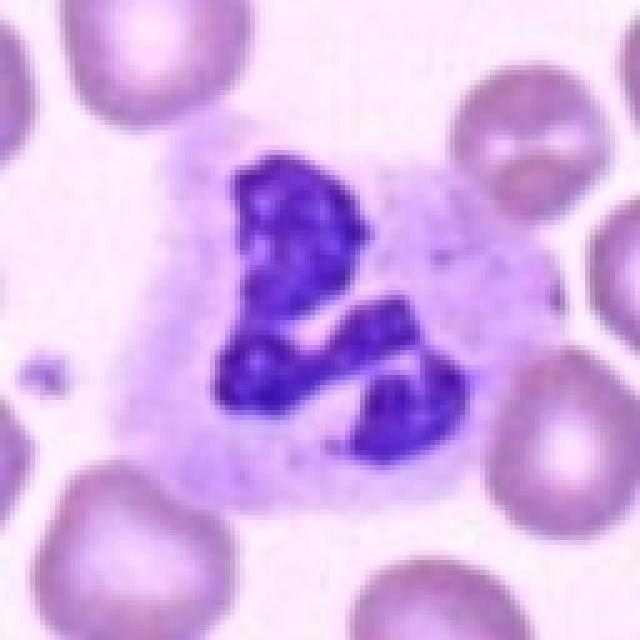neutro: (67, 92, 562, 595)
